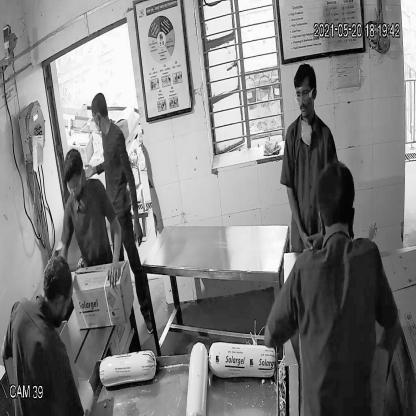goggles: (293, 86, 316, 103)
